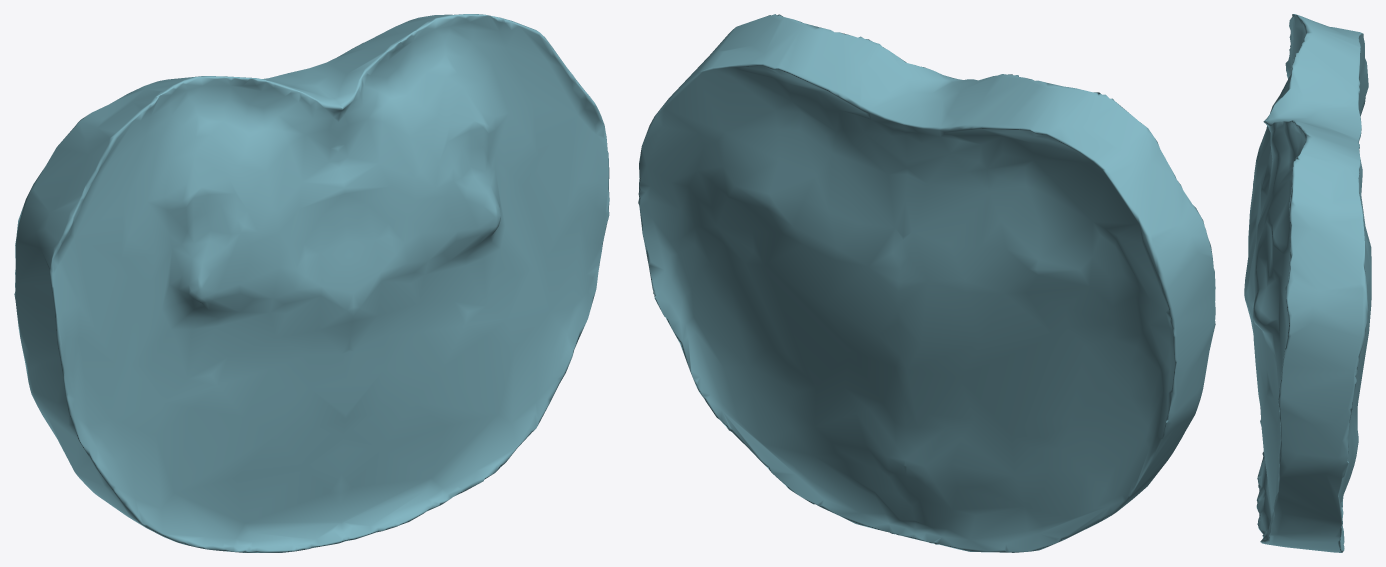
3 views of the same model, side by side, from view 1: azimuth 30°, elevation 25°; view 2: azimuth 150°, elevation 25°; view 3: azimuth 270°, elevation 25° (orthographic). The views are drawn at different scales.
Parts seen in each view (by area): view 1: 腰2—腰3椎间盘; view 2: 腰2—腰3椎间盘; view 3: 腰2—腰3椎间盘.
Boxes of the visible parts, x1=… form: 腰2—腰3椎间盘: x1=14, y1=14, x2=609, y2=552; 腰2—腰3椎间盘: x1=638, y1=14, x2=1215, y2=552; 腰2—腰3椎间盘: x1=1244, y1=14, x2=1371, y2=552.
Bounding box in the file's own units: 0.0677 × 0.0564 × 0.0151.
